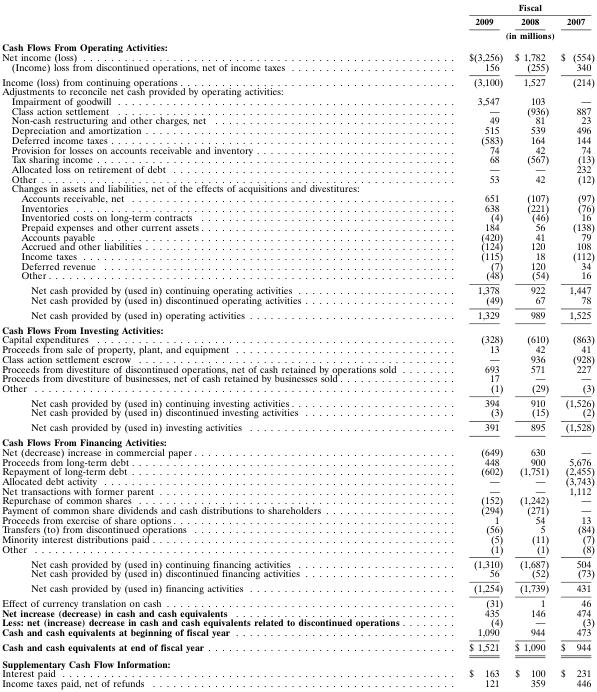table: (1, 1, 594, 688)
table column: (1, 1, 433, 688), (433, 1, 508, 688), (508, 1, 554, 688), (554, 1, 594, 688)
table column header: (1, 1, 594, 40)
table projected row header: (1, 654, 594, 668), (1, 321, 594, 334), (1, 434, 594, 446), (1, 40, 594, 51), (1, 86, 594, 95), (1, 183, 594, 192)
table row: (1, 419, 594, 434), (1, 580, 594, 595), (1, 639, 594, 654), (1, 13, 594, 27), (1, 307, 594, 321), (1, 654, 594, 668), (1, 27, 594, 40), (1, 73, 594, 86), (1, 294, 594, 307), (1, 321, 594, 334), (1, 394, 594, 407), (1, 555, 594, 568), (1, 626, 594, 639), (1, 1, 594, 13), (1, 61, 594, 73), (1, 270, 594, 282), (1, 282, 594, 294), (1, 382, 594, 394), (1, 407, 594, 419), (1, 434, 594, 446), (1, 543, 594, 555), (1, 568, 594, 580), (1, 595, 594, 607), (1, 40, 594, 51), (1, 677, 594, 688), (1, 51, 594, 61), (1, 95, 594, 105), (1, 105, 594, 115), (1, 124, 594, 134), (1, 134, 594, 144), (1, 153, 594, 163), (1, 163, 594, 173), (1, 173, 594, 183), (1, 192, 594, 202), (1, 202, 594, 212), (1, 221, 594, 231), (1, 231, 594, 241), (1, 250, 594, 260), (1, 260, 594, 270), (1, 343, 594, 353), (1, 353, 594, 363), (1, 372, 594, 382), (1, 446, 594, 456), (1, 465, 594, 475), (1, 475, 594, 485), (1, 485, 594, 495), (1, 504, 594, 514), (1, 514, 594, 524), (1, 533, 594, 543), (1, 607, 594, 617), (1, 86, 594, 95), (1, 115, 594, 124), (1, 144, 594, 153), (1, 183, 594, 192), (1, 212, 594, 221), (1, 241, 594, 250), (1, 334, 594, 343), (1, 363, 594, 372), (1, 456, 594, 465), (1, 495, 594, 504), (1, 524, 594, 533), (1, 617, 594, 626), (1, 668, 594, 677)
table spanning cell: (433, 27, 594, 40), (433, 1, 594, 13)
